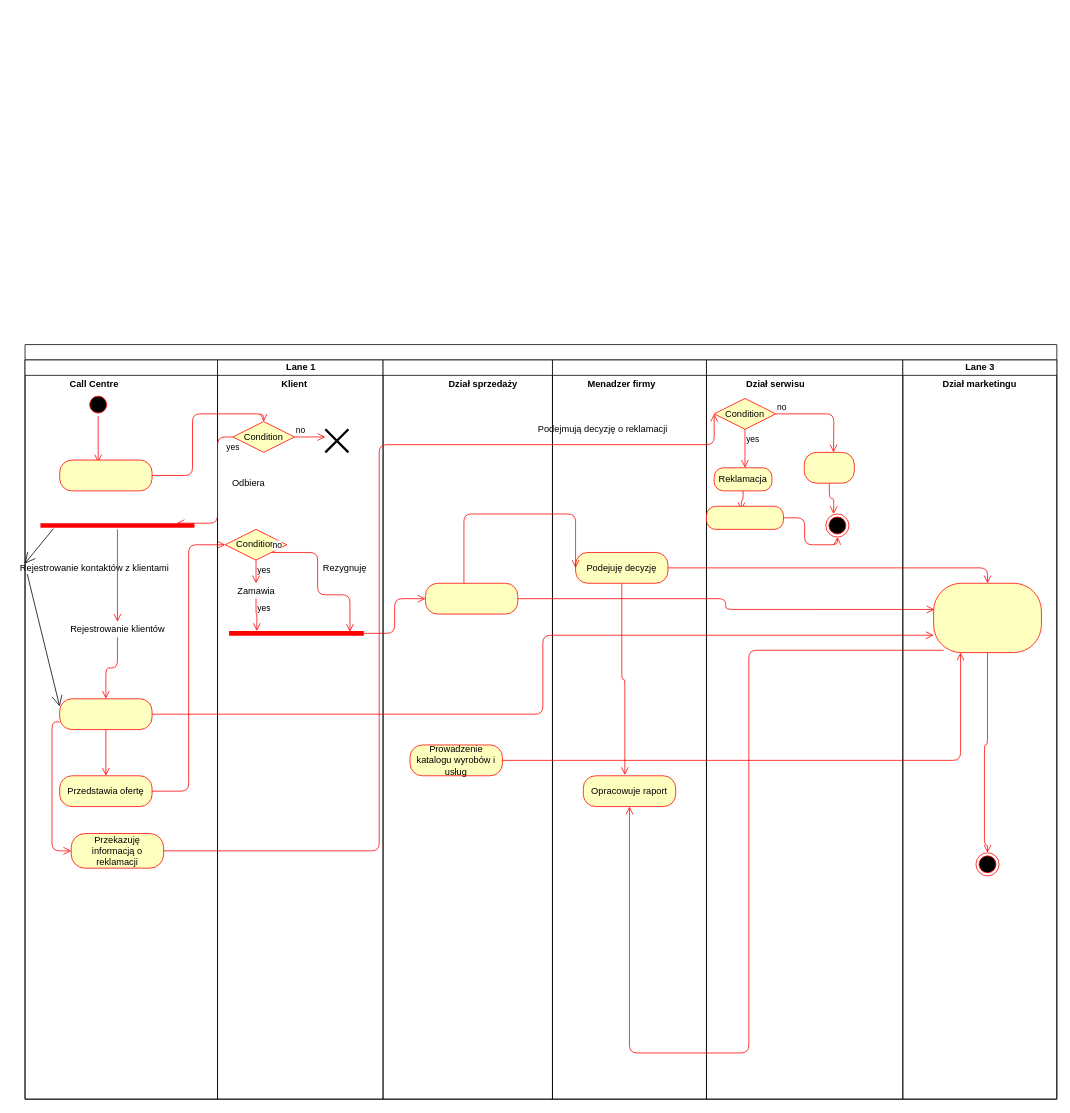
This 1070x1113 diagram has some shape labels left out. Here are the shapes that lost their labels. From the top down, the centre of each, then its label:
At point 105,475: "Dzwoni do klienta".
At point 828,467: "Odmowa realizacji".
At point 744,517: "Realizacja reklamacji".
At point 471,598: "Zarządza zamówieniami klienta".
At point 987,618: "Opracowuję zestawienie sprzedaży i zyskowności klientów".
At point 105,714: "Activity".
